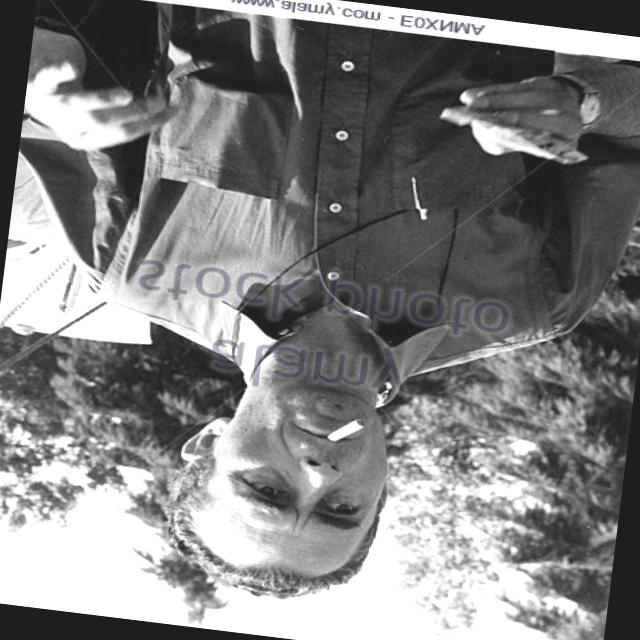cigarette: (325, 412, 369, 448)
